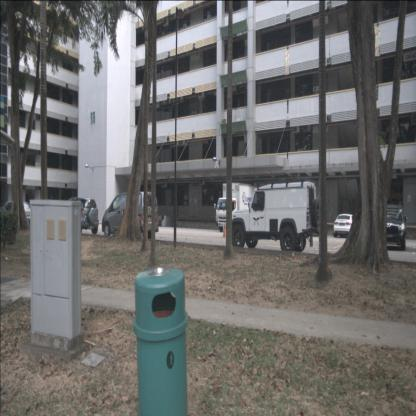cone: (222, 222, 227, 238)
